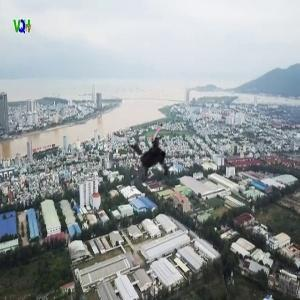drone: (124, 117, 194, 187)
